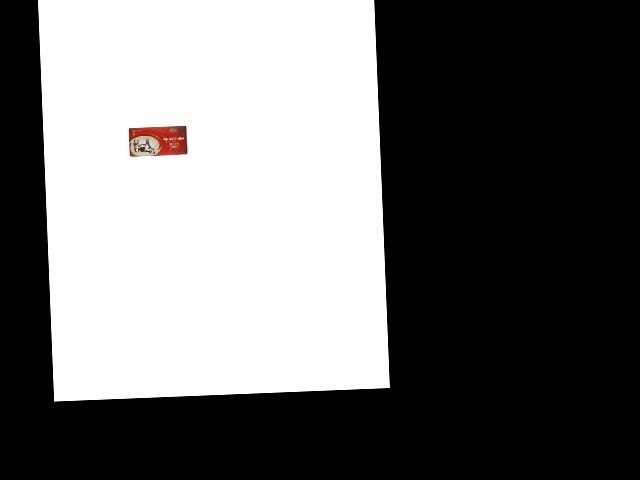chocolate: (128, 124, 189, 156)
